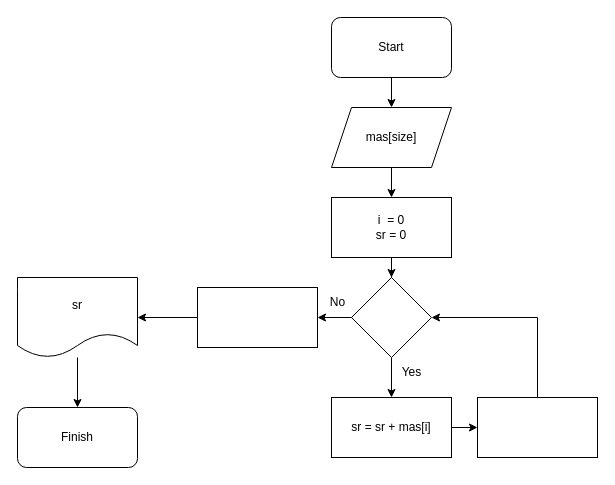
The diagram is 615 pixels wide and 485 high, and some of its shapes have lost their labels. The shapes that lost their labels are listed below. From the top down, each one's centre as x and y in pixels, then its label:
At (x=257, y=317): "sr = sr / size".
At (x=391, y=317): "i < size".
At (x=537, y=427): "i = i + 1".
